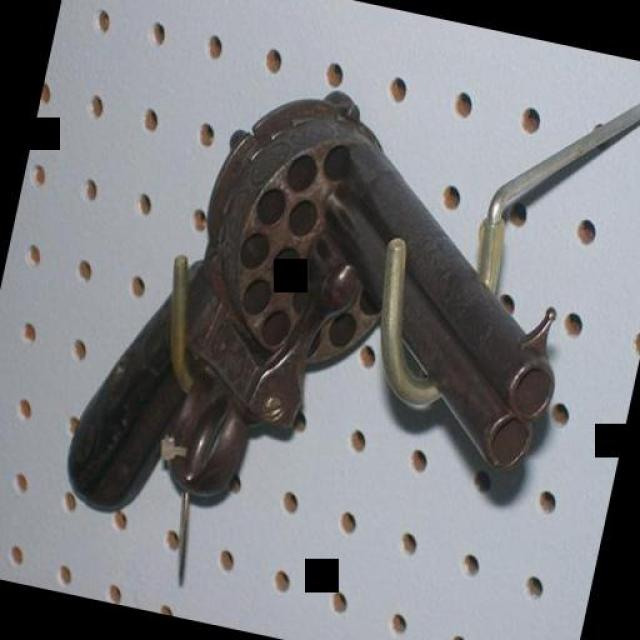gun: (58, 34, 612, 584)
